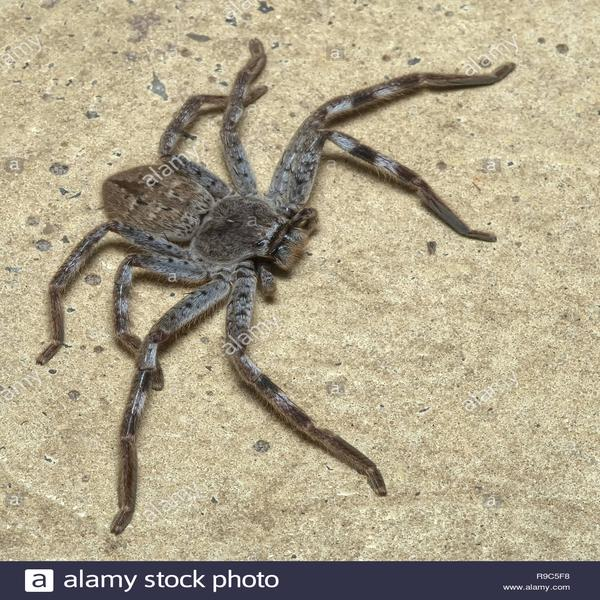Huntsman Spider: (36, 41, 509, 492)
